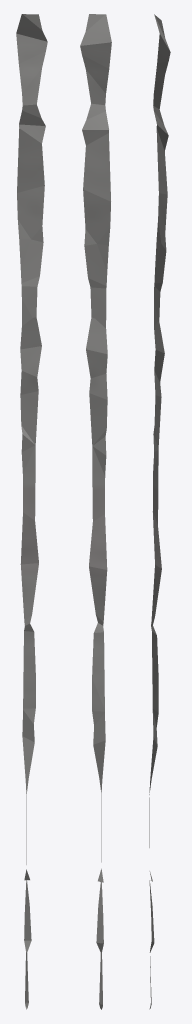
3 renders of one model, left to right at view 1: azimuth 30°, elevation 25°; view 2: azimuth 210°, elevation 25°; view 3: azimuth 330°, elevation 25°, orthographic.
Size of the model in its own units: 0.0129 by 0.5722 by 0.0108.
1 material, 1 textured.
